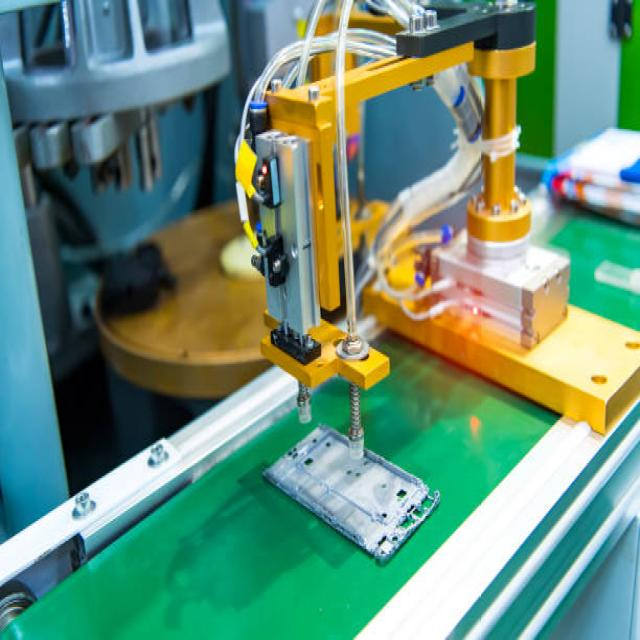Robotic-arm: (218, 5, 442, 433)
